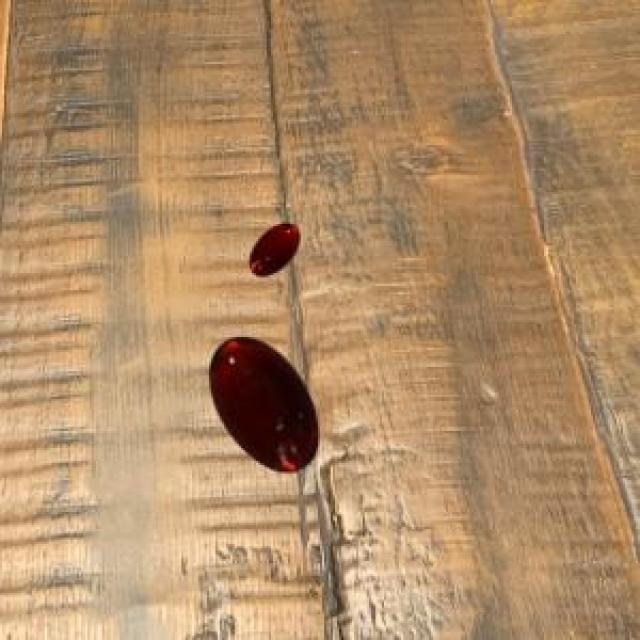Medicol: (197, 320, 331, 482), (243, 208, 304, 292)
